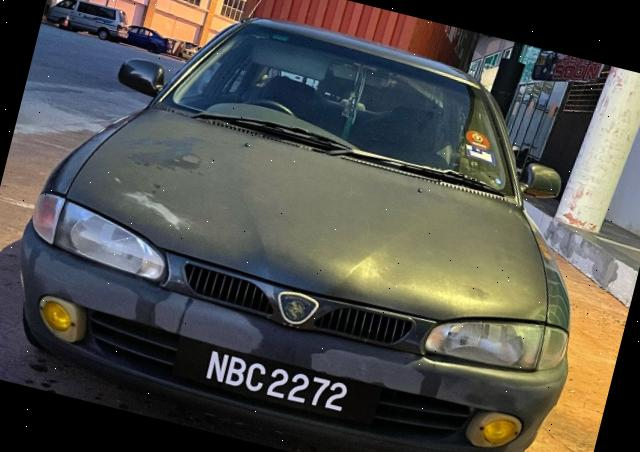License_Plate: (180, 336, 372, 429)
car: (1, 1, 634, 452)
